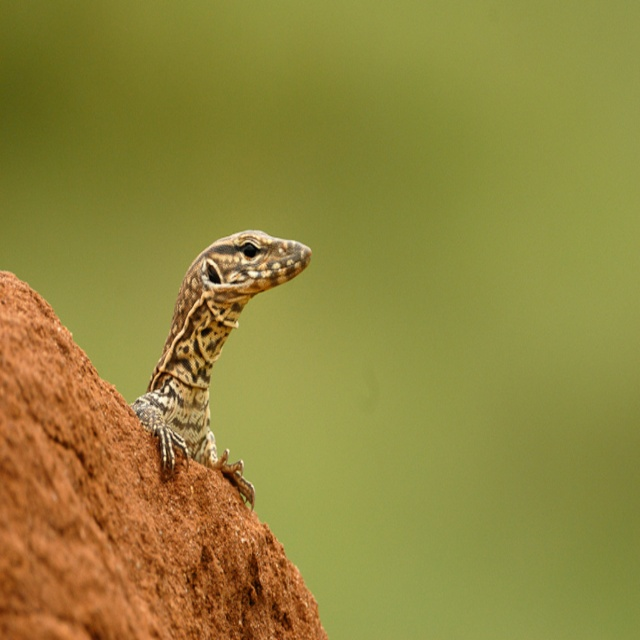Lizard: (131, 230, 313, 513)
